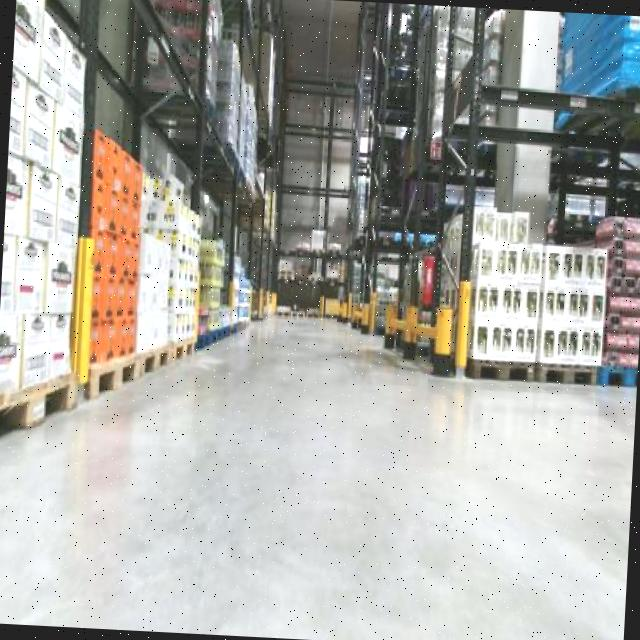pallet: (0, 362, 79, 458), (82, 344, 144, 404), (460, 356, 539, 389), (536, 358, 597, 394), (136, 335, 177, 383), (170, 330, 203, 364), (288, 308, 309, 322)
